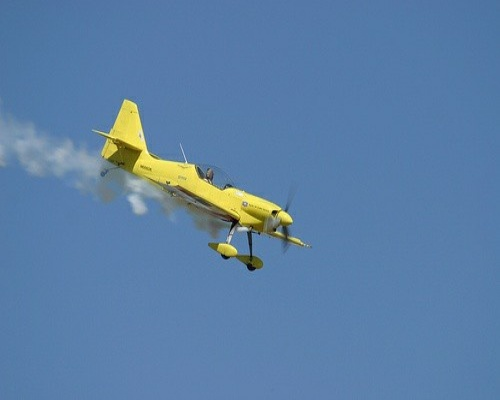plane: (85, 97, 311, 275)
